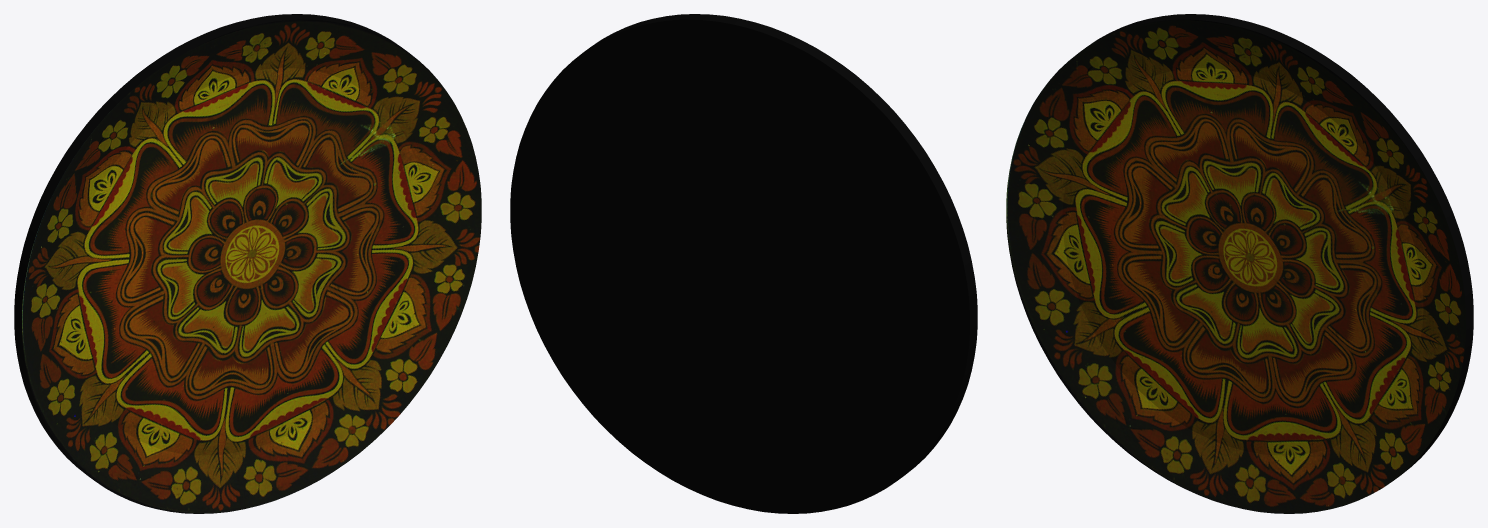
Rendered from PlatoBarnizPasto.glb.
The picture shows the model from 3 angles, left to right: view 1: azimuth 30°, elevation 25°; view 2: azimuth 150°, elevation 25°; view 3: azimuth 330°, elevation 25°; orthographic projection.
Parts seen in each view (by area): view 1: PlatoBarniz; view 2: PlatoBarniz; view 3: PlatoBarniz.
Boxes of the visible parts, left/top/right/bottom form: PlatoBarniz: left=14, top=14, right=481, bottom=513; PlatoBarniz: left=510, top=14, right=977, bottom=513; PlatoBarniz: left=1006, top=14, right=1473, bottom=513.
Bounding box in the file's own units: 1.99 × 1.99 × 0.0572.
1 material, 1 textured.
